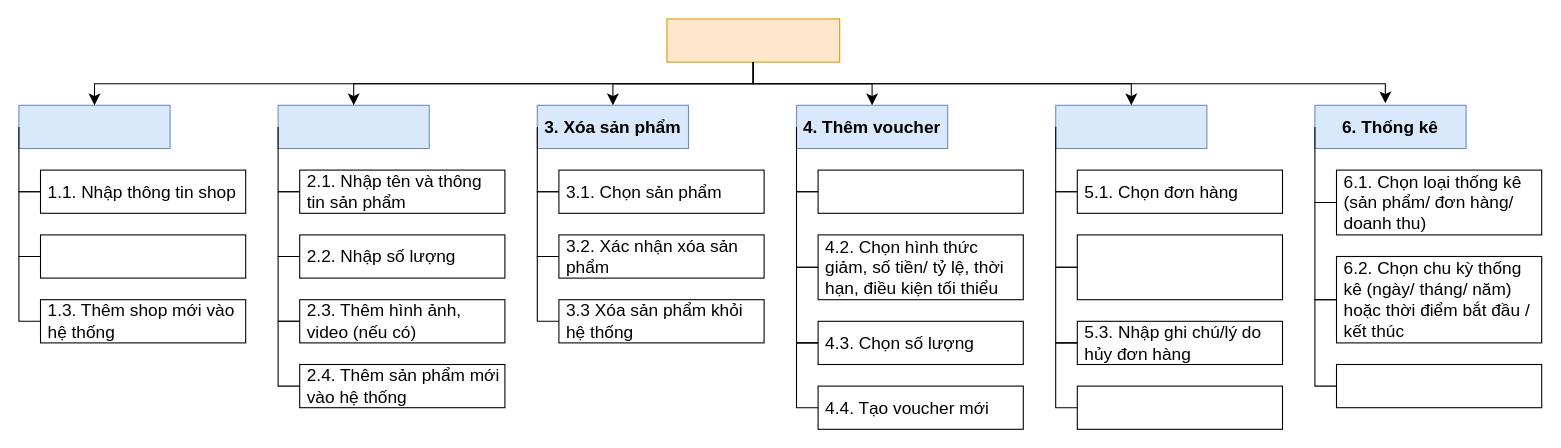
This 1561x448 diagram has some shape labels left out. The centre of each missing label's shape, as x and y in pixels:
"1. Đăng ký thông tin shop" belongs at point (94, 126).
"1.2. Xác minh email, số điện thoại, mã số thuế" belongs at point (142, 256).
"2. Thêm sản phẩm" belongs at point (353, 126).
"4.1. Nhập tên voucher mới" belongs at point (920, 191).
"5. Quản lý đơn hàng" belongs at point (1131, 126).
"5.2. Xác nhận đơn hàng/ hủy đơn hàng" belongs at point (1179, 267).
"5.4. Thông báo cho khách hàng" belongs at point (1179, 407).
"6.3. Hiển thị tổng số, trung bình, ..." belongs at point (1438, 385).
"Quản lý shop" belongs at point (753, 40).
